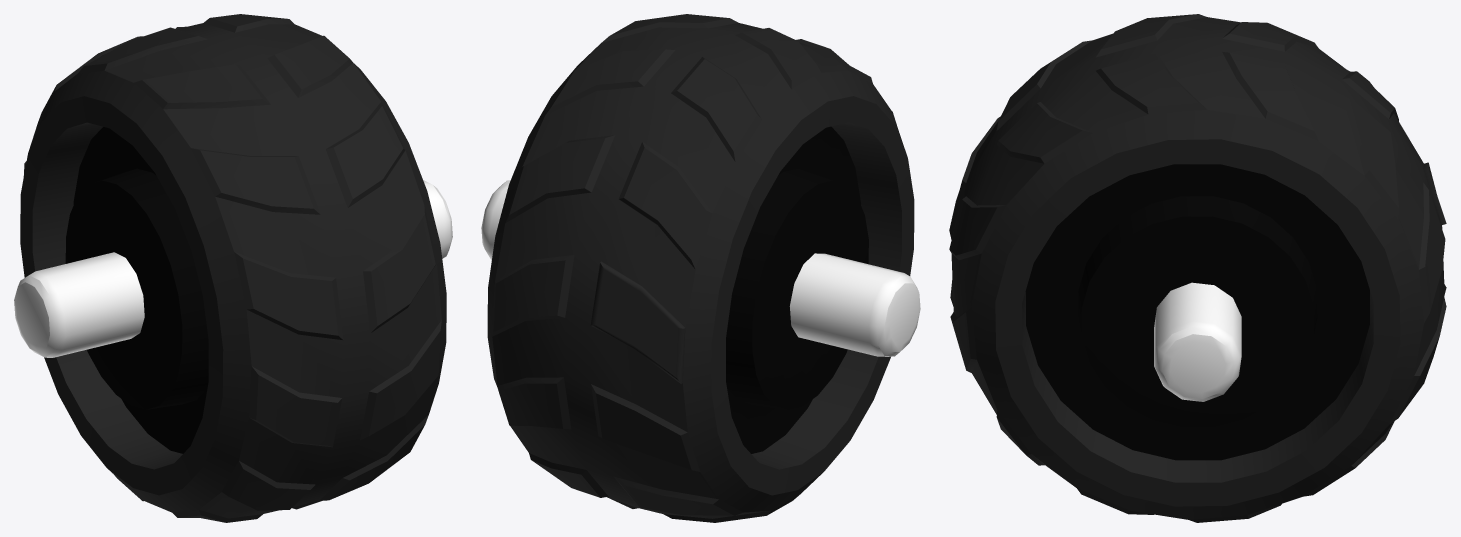
Rendered from Wheeler_Wheel.fbx.
3 renders of one model, left to right at view 1: azimuth 30°, elevation 25°; view 2: azimuth 150°, elevation 25°; view 3: azimuth 270°, elevation 25°, orthographic.
Visible parts, largest first — view 1: Wheeler_Wheel; view 2: Wheeler_Wheel; view 3: Wheeler_Wheel.
Part boxes in pixels (bbox=[...]): Wheeler_Wheel: bbox=[14, 14, 452, 522]; Wheeler_Wheel: bbox=[481, 14, 920, 522]; Wheeler_Wheel: bbox=[949, 14, 1446, 522].
Bounding box in the file's own units: 28.47 × 30.21 × 30.22.
